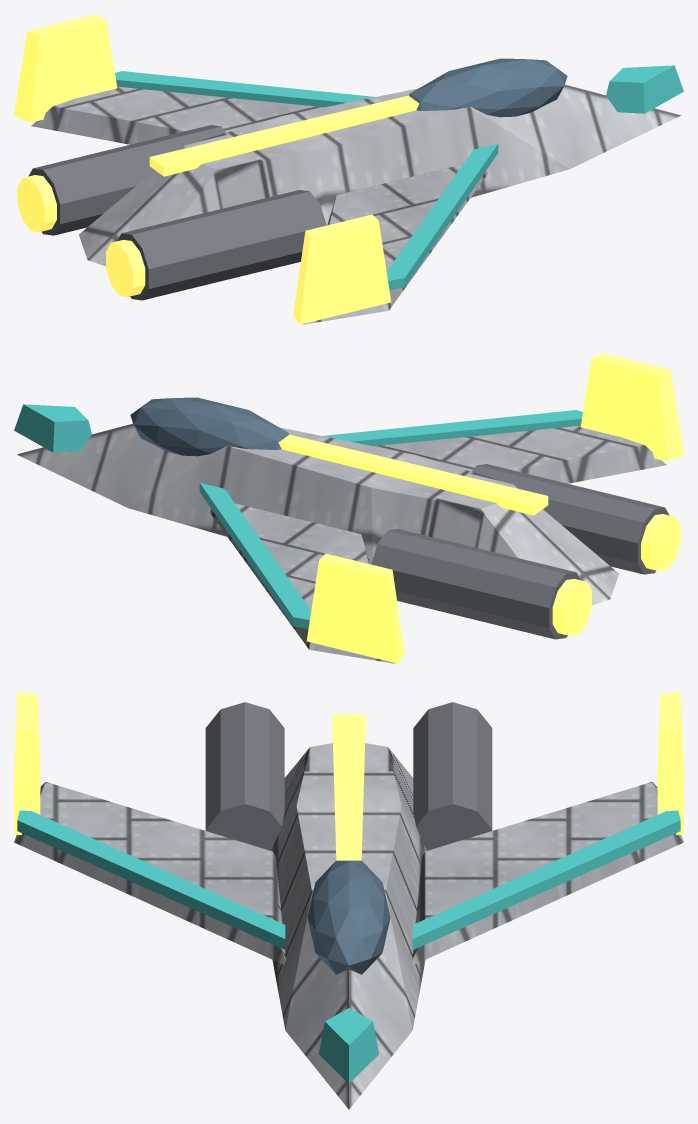
The model's file is fighter_p2_ember.glb.
3 views of the same model, one above another, from view 1: azimuth 30°, elevation 25°; view 2: azimuth 150°, elevation 25°; view 3: azimuth 270°, elevation 25° (orthographic). The views are drawn at different scales.
Bounding box in the file's own units: 12.3 × 2.17 × 10.
Materials: 6 (2 with a texture image).
